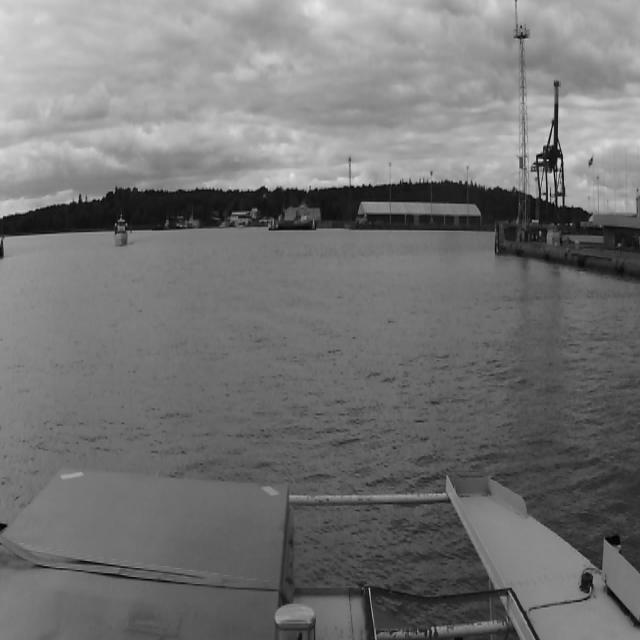ship: (112, 213, 130, 248)
